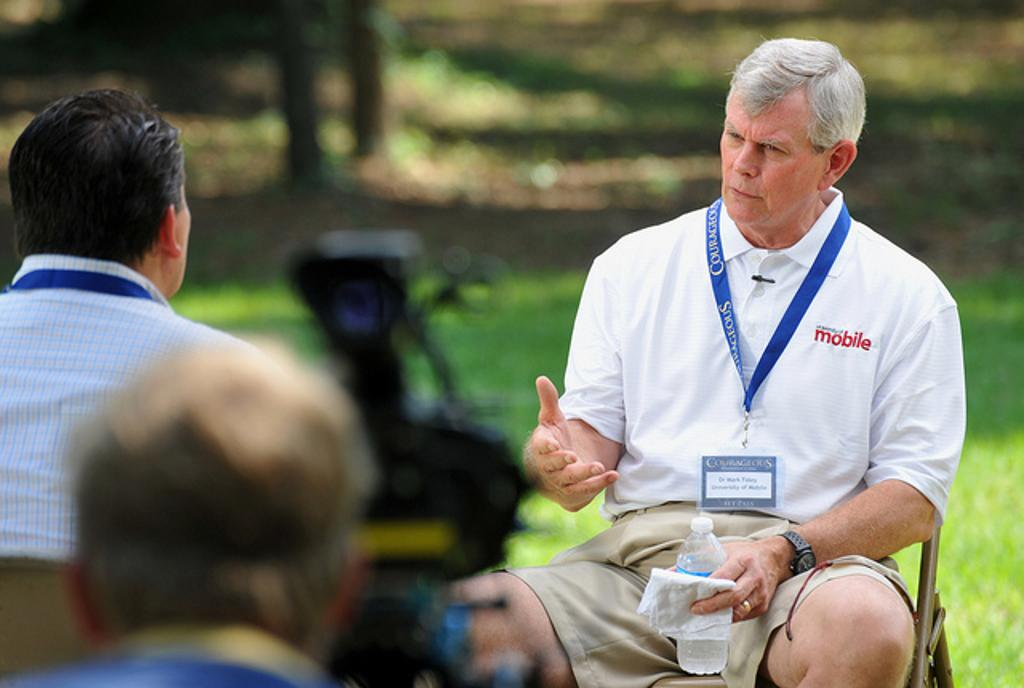face: (722, 82, 810, 222)
